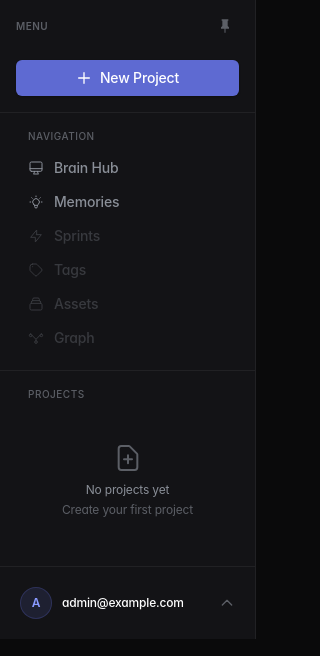
Sidebar › shows admin link in profile menu for admin users
Click the button with aria-label "User menu". click: click(128, 603)
box: [12,579,243,627]
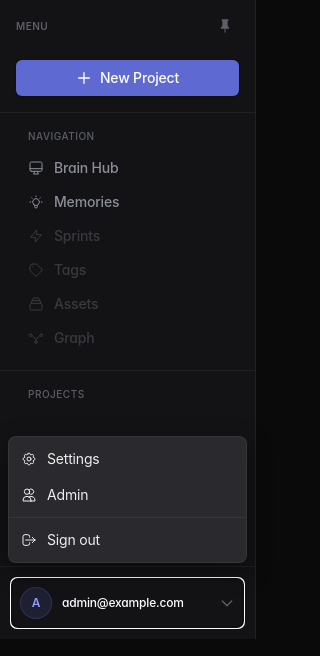
Now the button "Admin" is shown, box [9,477,246,513]
